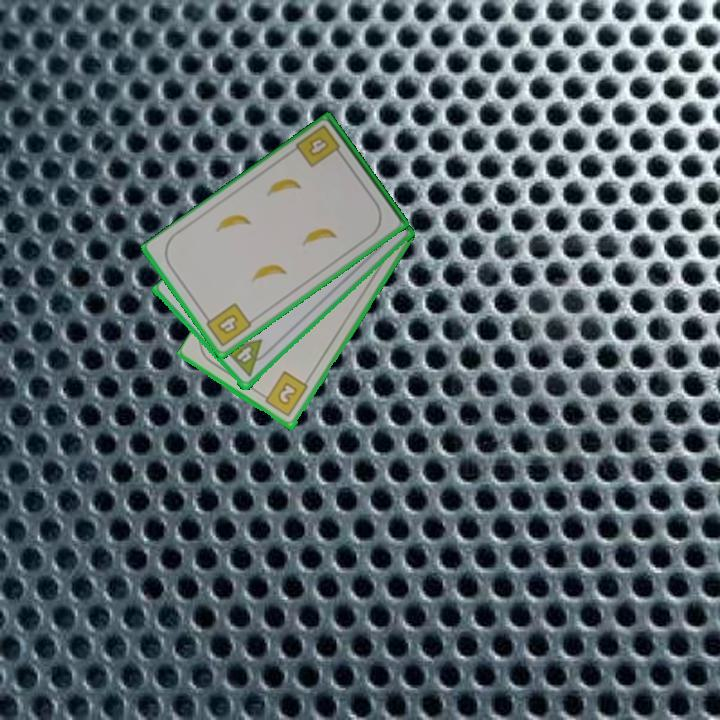2b: (257, 368, 311, 420)
4b: (200, 299, 255, 350), (292, 121, 347, 170)
4p: (220, 336, 273, 380)
